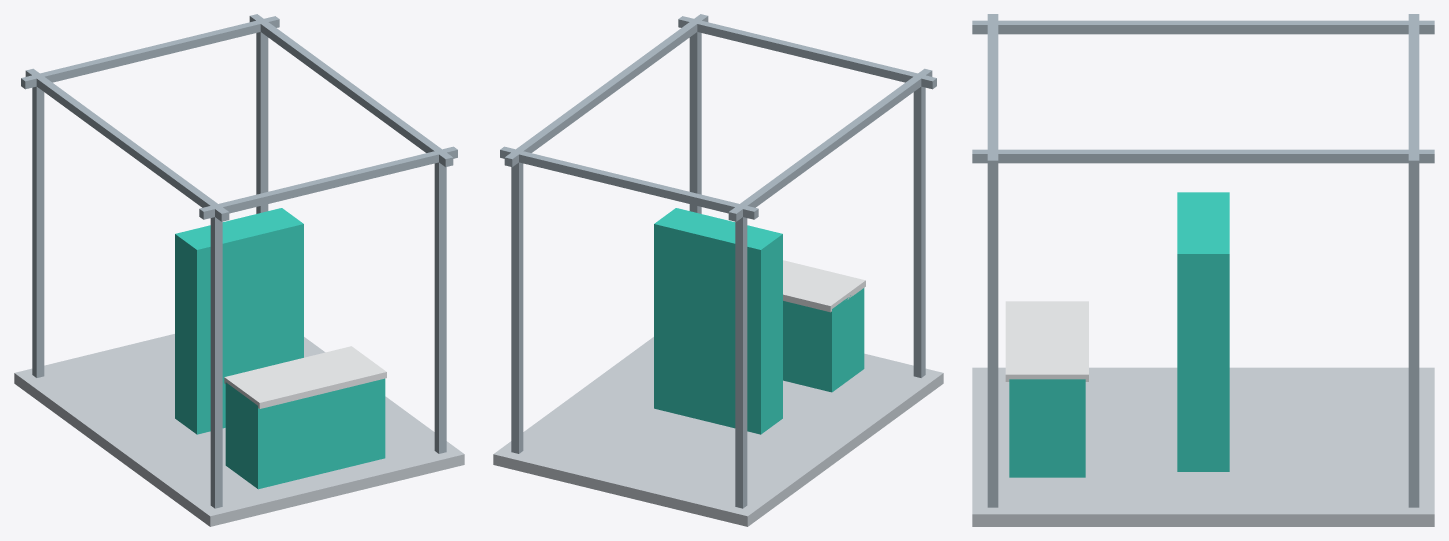
3 renders of one model, left to right at view 1: azimuth 30°, elevation 25°; view 2: azimuth 150°, elevation 25°; view 3: azimuth 270°, elevation 25°, orthographic. The views are drawn at different scales.
Visible parts, largest first — view 1: Exhibition Booth Concept; view 2: Exhibition Booth Concept; view 3: Exhibition Booth Concept.
Boxes of the visible parts, x1,y1,x2,y2 form: Exhibition Booth Concept: (14, 14, 464, 526); Exhibition Booth Concept: (493, 14, 943, 526); Exhibition Booth Concept: (972, 14, 1434, 526).
Bounding box in the file's own units: 3 × 3.49 × 4.
